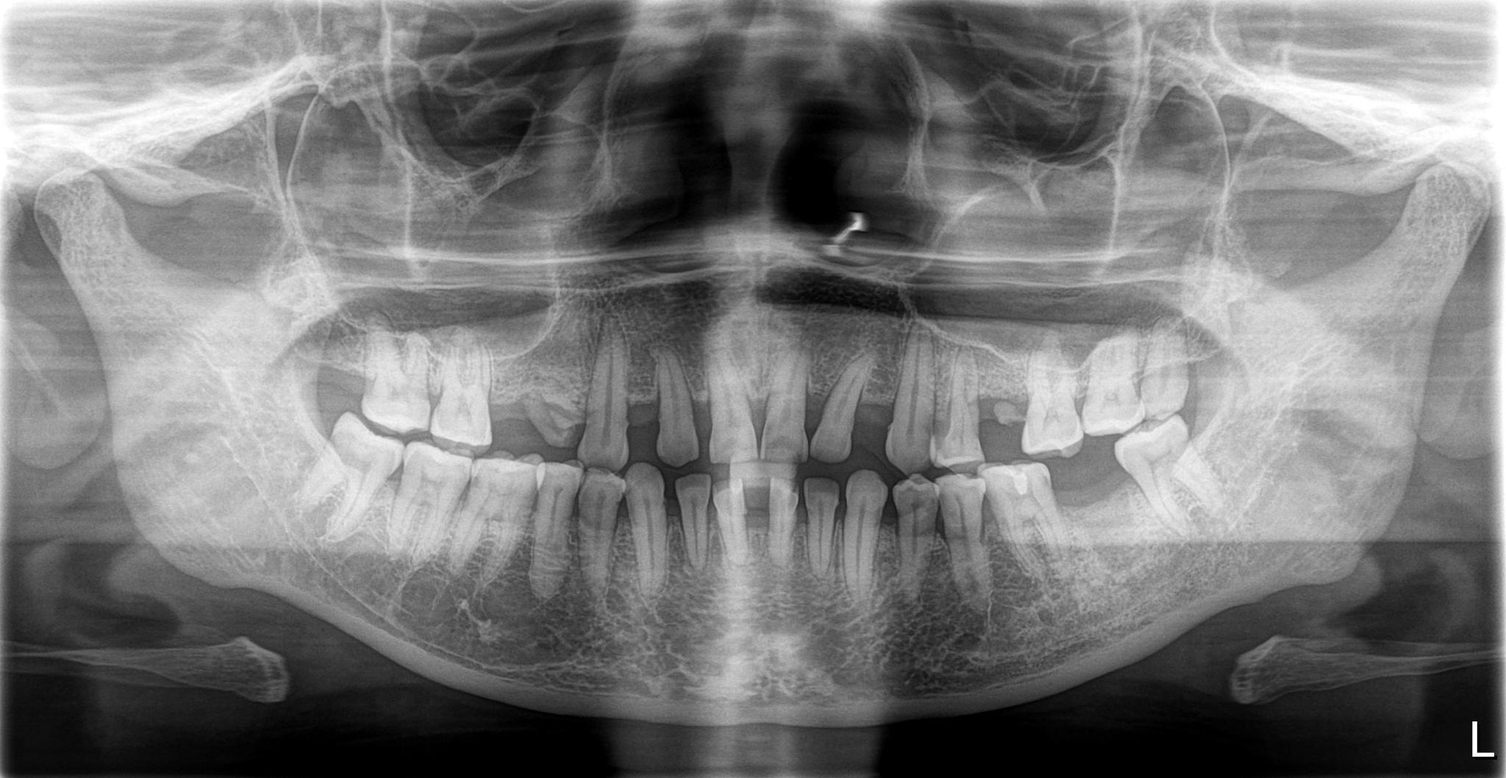Dental Caries: (364, 364, 424, 412)
Missing Tooth: (296, 320, 368, 426), (1094, 452, 1135, 575), (482, 351, 530, 452), (1055, 452, 1088, 583)
Retained Root: (532, 336, 592, 455), (976, 353, 1027, 451)
